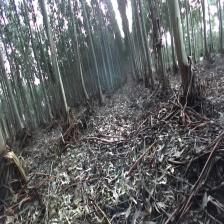trunk: (40, 6, 69, 123), (169, 3, 190, 82), (72, 27, 89, 104), (151, 12, 168, 88), (90, 46, 104, 102)
